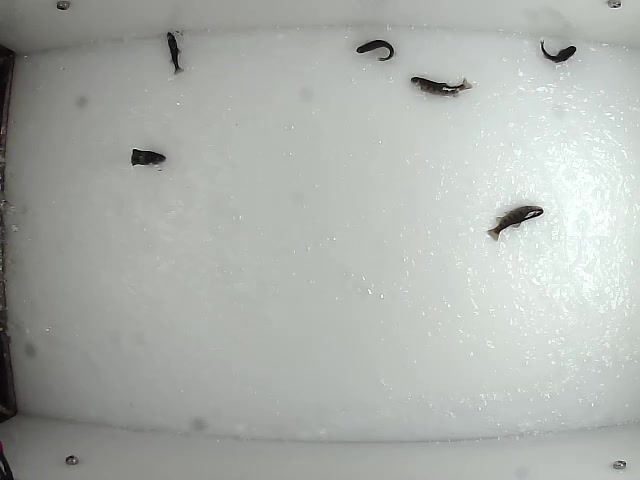fish: (484, 203, 544, 242), (405, 76, 474, 99), (129, 146, 177, 169), (538, 38, 578, 64), (164, 29, 186, 76), (354, 39, 396, 61)
